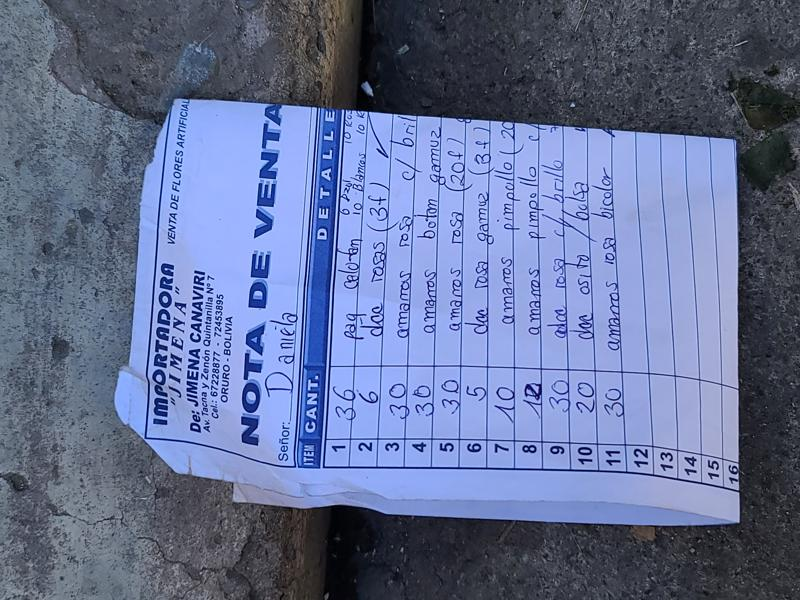papel: (112, 100, 741, 529)
